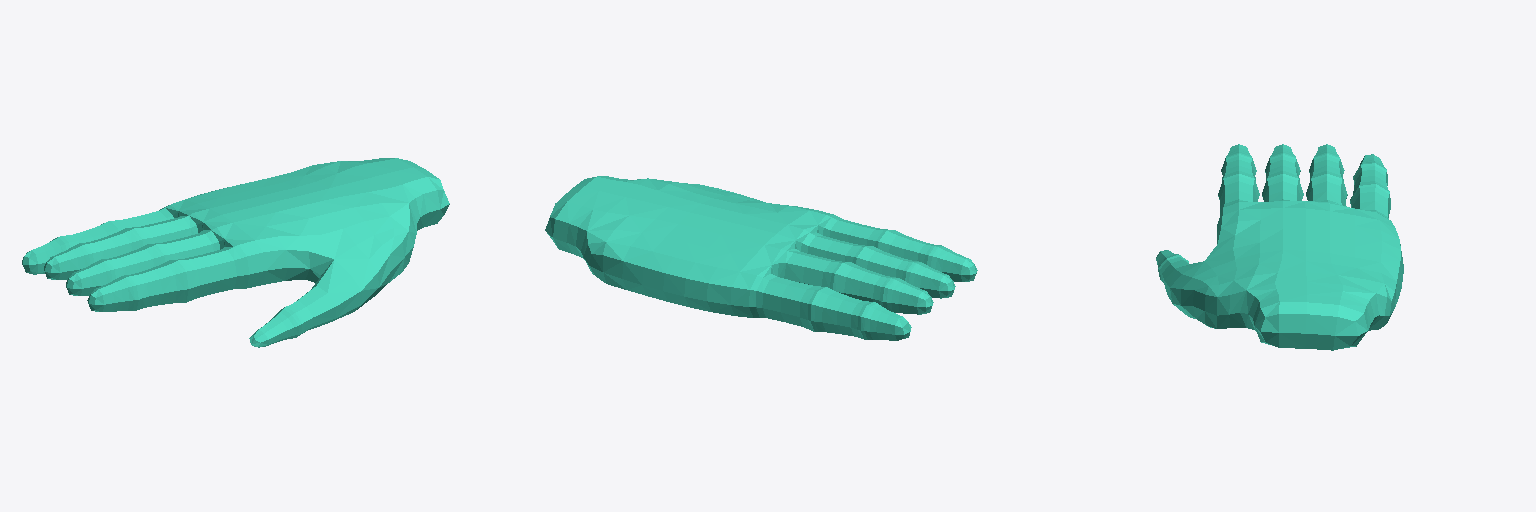
File: Glove.obj
The picture shows the model from 3 angles: view 1: azimuth 30°, elevation 25°; view 2: azimuth 150°, elevation 25°; view 3: azimuth 270°, elevation 25°; orthographic projection.
Parts seen in each view (by area): view 1: Box001; view 2: Box001; view 3: Box001.
Boxes of the visible parts, box(x1,y1,x2,y2) form: Box001: box(22, 158, 449, 347); Box001: box(545, 176, 977, 340); Box001: box(1156, 144, 1403, 350).
Bounding box in the file's own units: 0.2603 × 0.0496 × 0.1485.